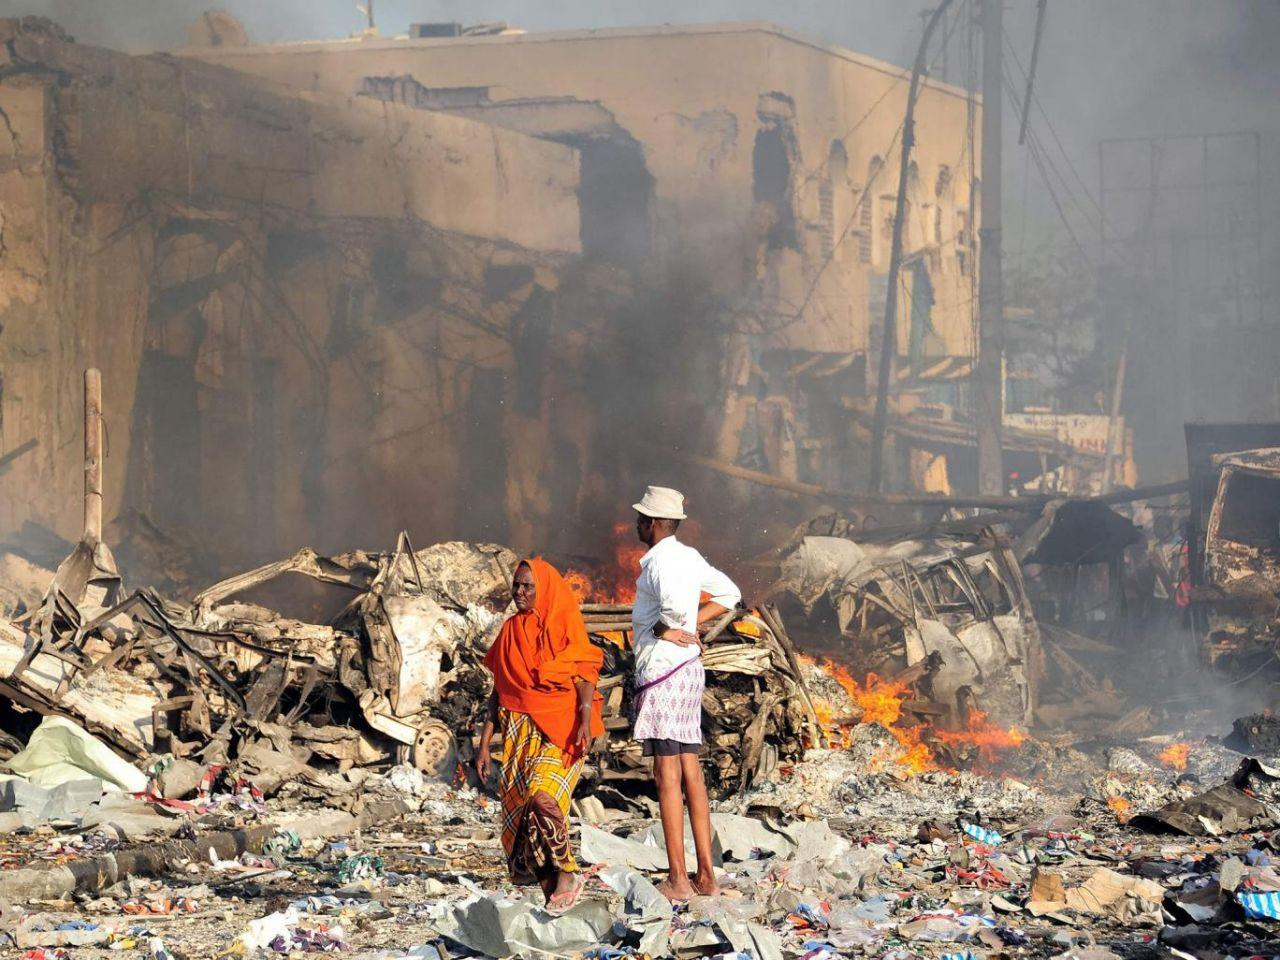fire: (798, 652, 1015, 781), (564, 524, 644, 604), (1156, 736, 1194, 774)
smoke: (84, 8, 816, 551), (998, 1, 1278, 489), (1033, 583, 1280, 734)
